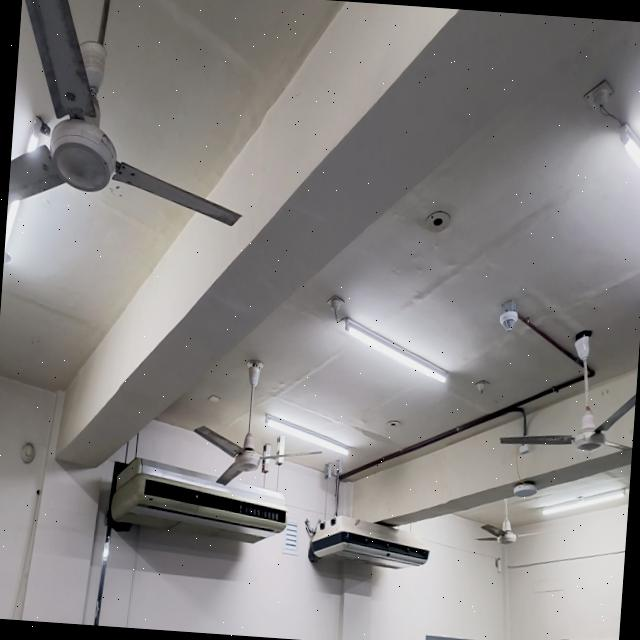Ac: (111, 457, 287, 542), (305, 515, 429, 566)
Light: (338, 317, 447, 382), (265, 414, 348, 456), (541, 488, 625, 515), (620, 124, 640, 168)
